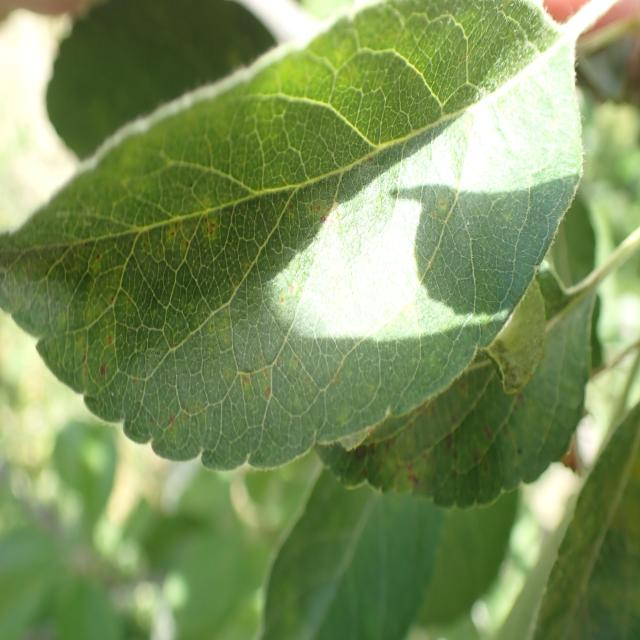scab: (16, 140, 546, 503)
